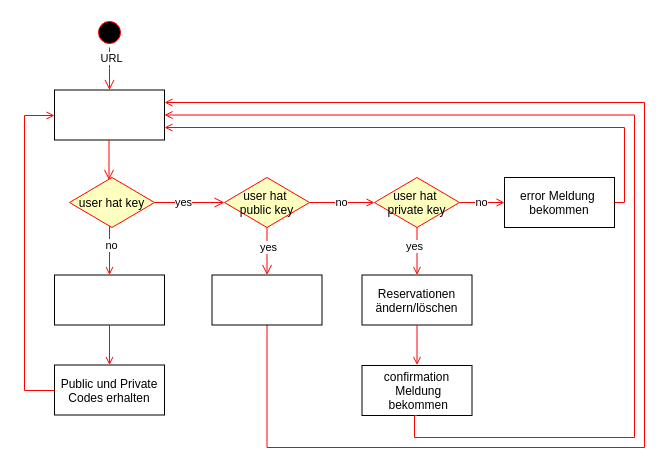
This 670x473 diagram has some shape labels left out. Here are the shapes that lost their labels. From the top down, the centre of each, then its label:
(x=109, y=114): Home Page gehen
(x=109, y=299): Reservation erstellen
(x=266, y=299): Reservationen anschauen
